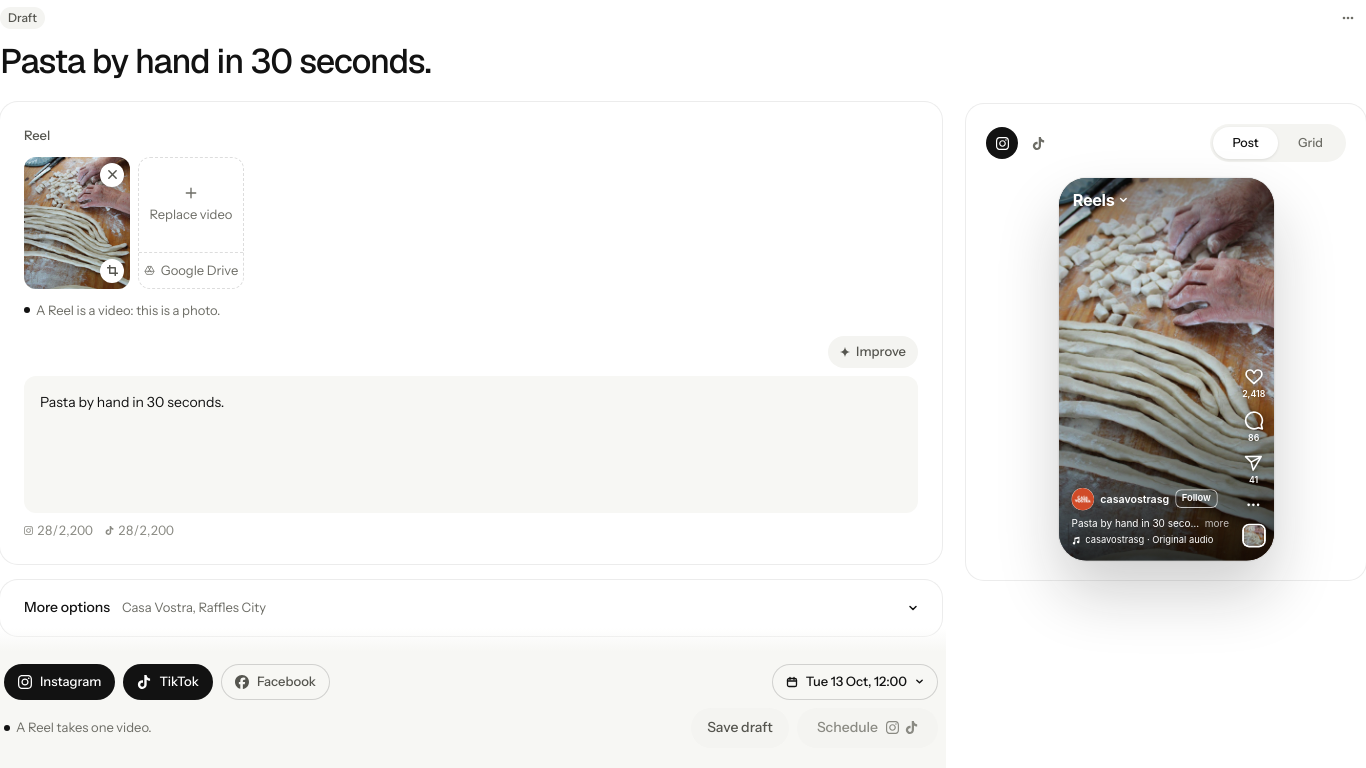
Test: the composer on the API › offers only hours still ahead today, the running hour at its next quarter
Click the button "Tue 13 Oct, 12:00" at (855, 682), box [772,664,938,700]
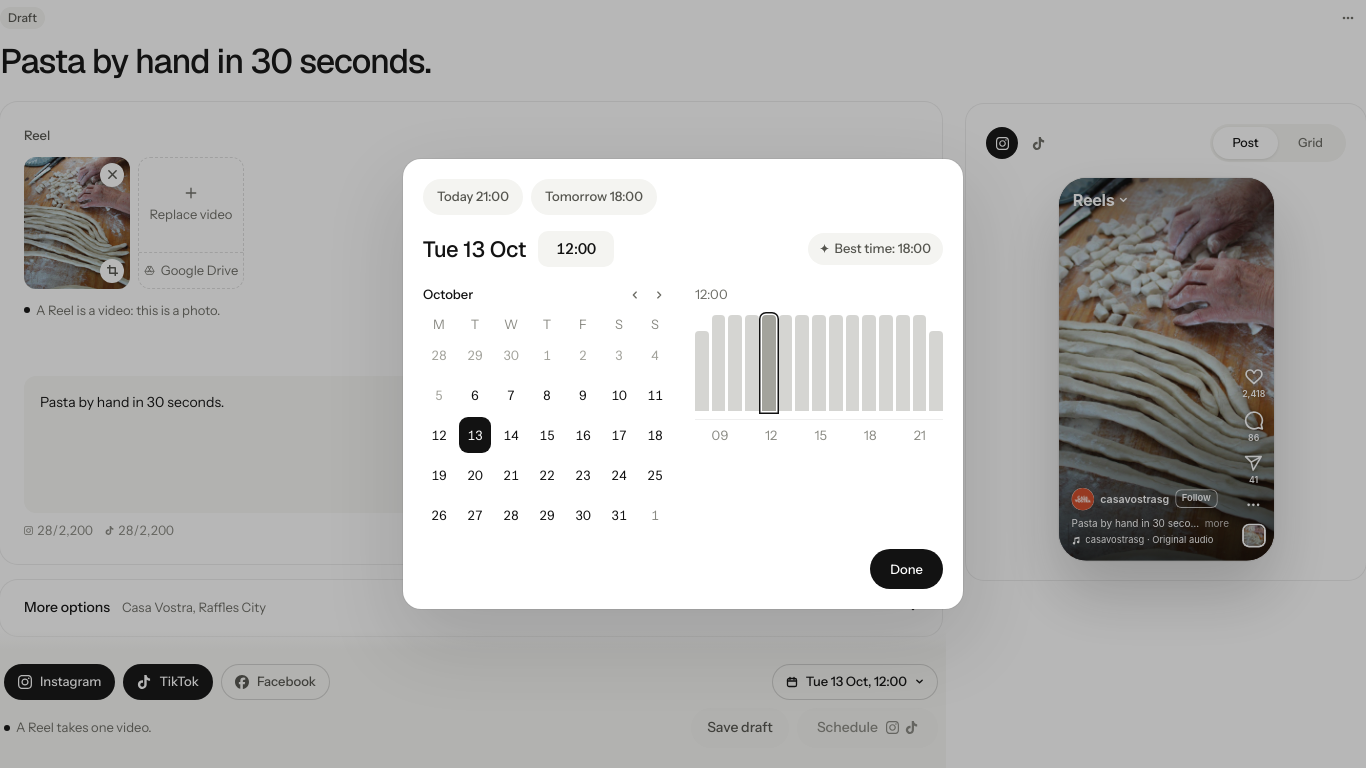
Today's quick pick lands on what is left of today.
Click the button "Today 21:00" at (473, 197), box [423,179,523,215]
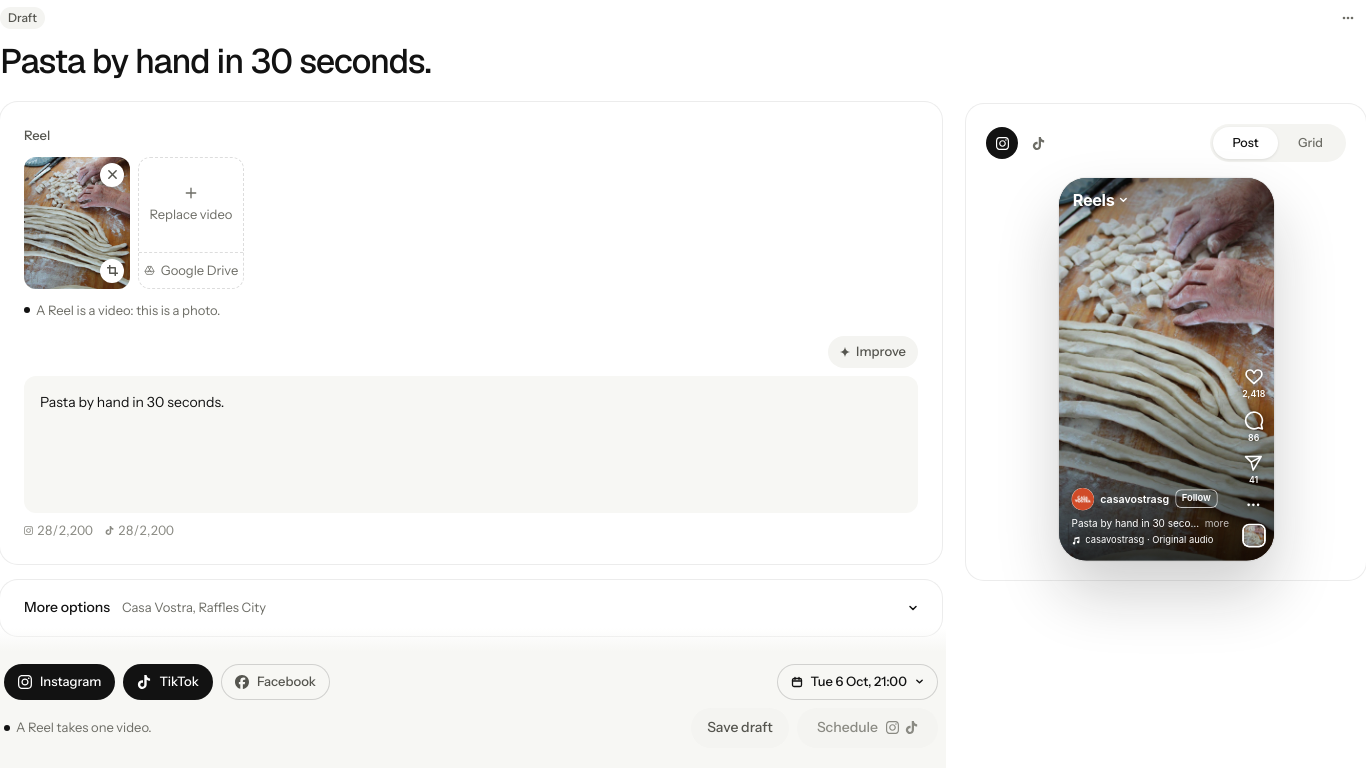
Click the button "Tue 6 Oct, 21:00" at (857, 682), box [776,664,938,700]
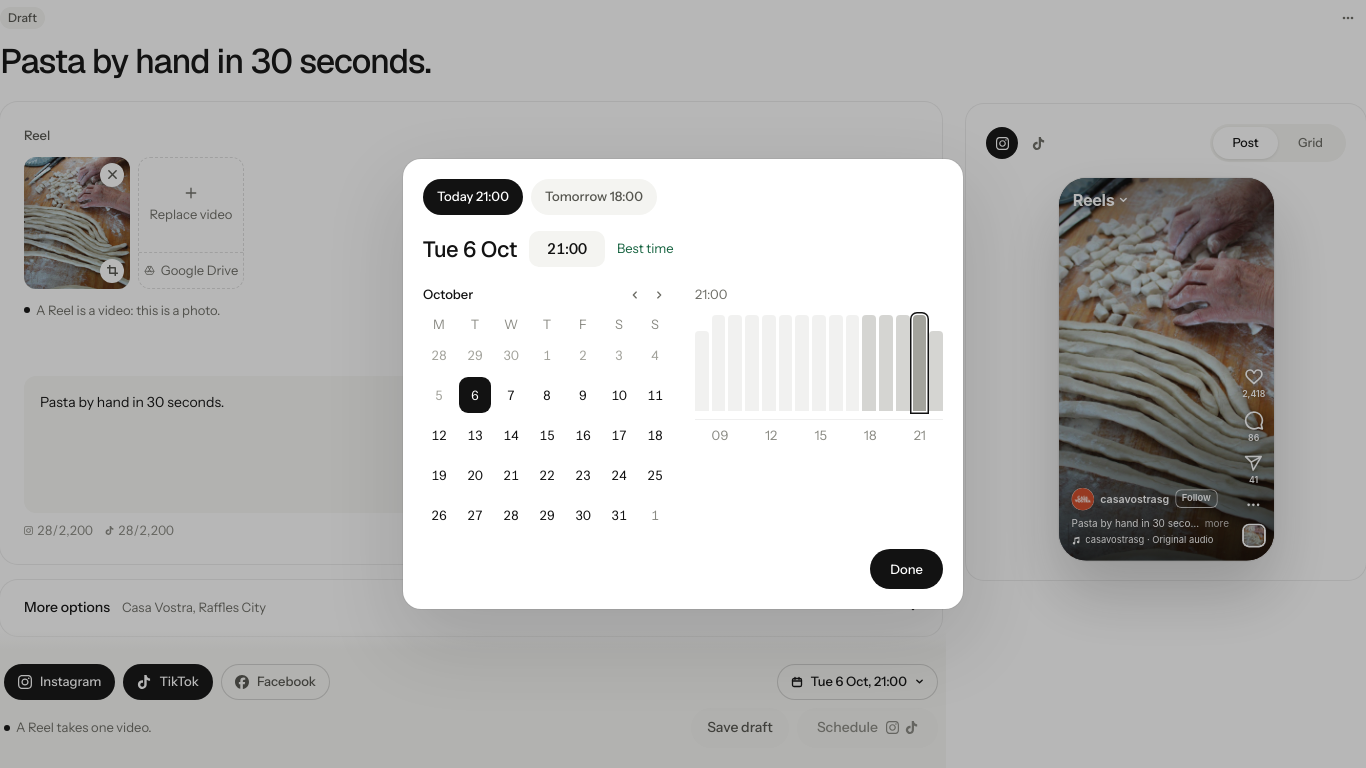
Expected: the radio button named "18:15" is enabled
Click the radio button named "18:15" at (869, 363), box [862,315,876,411]
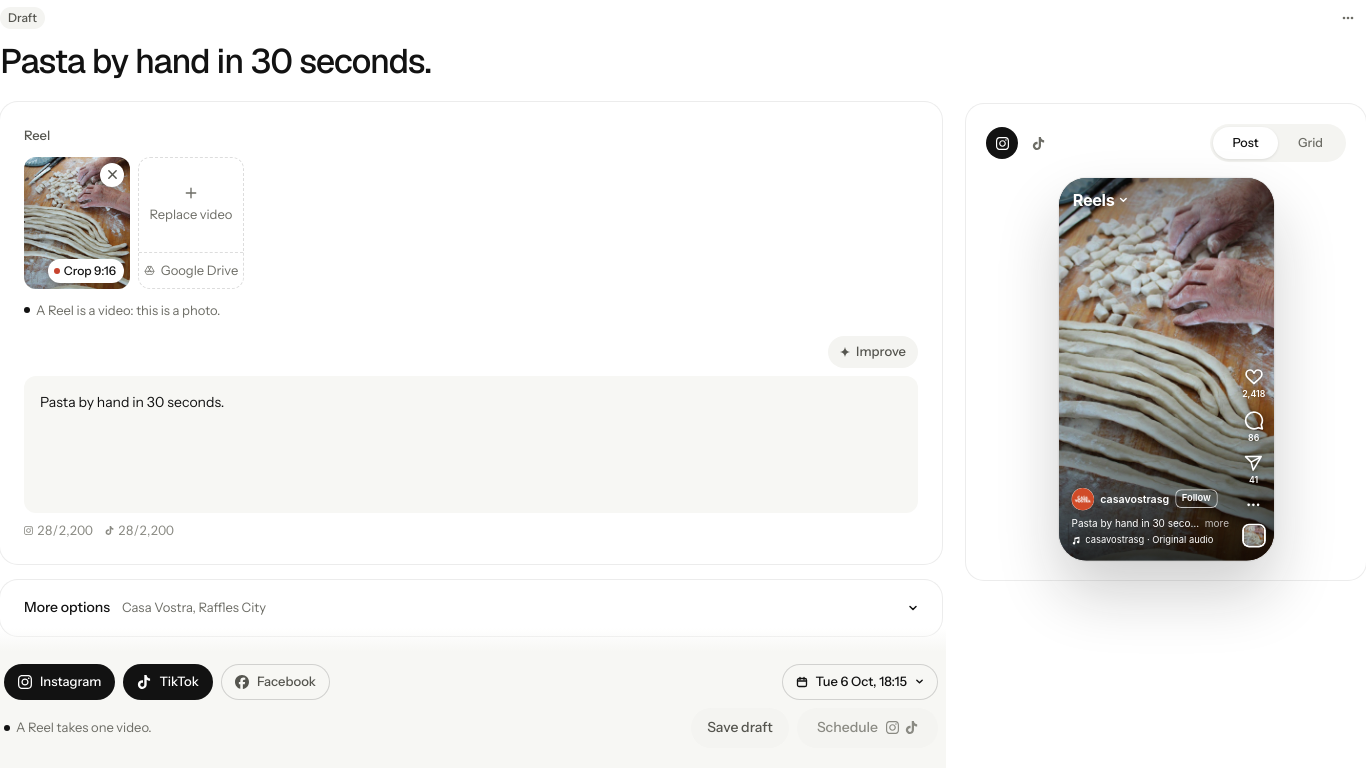
Expected: the dialog "When" is gone
Expected: the button "Tue 6 Oct, 18:15" is shown, [782,664,938,700]
